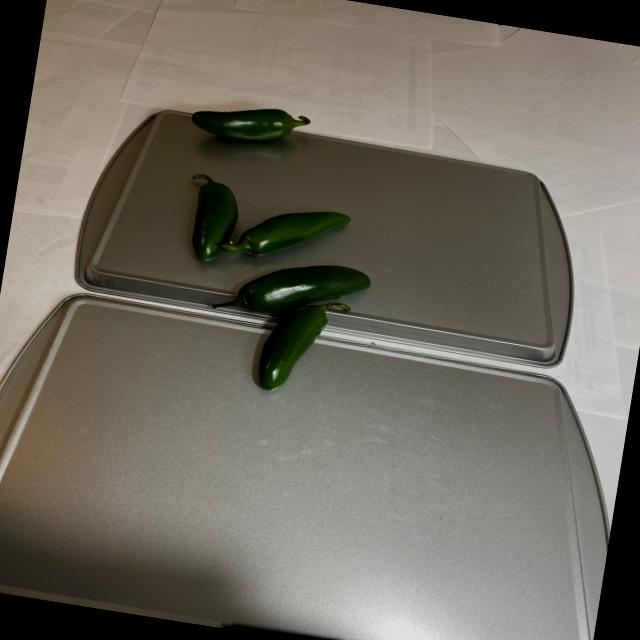chilli: (141, 96, 398, 408)
